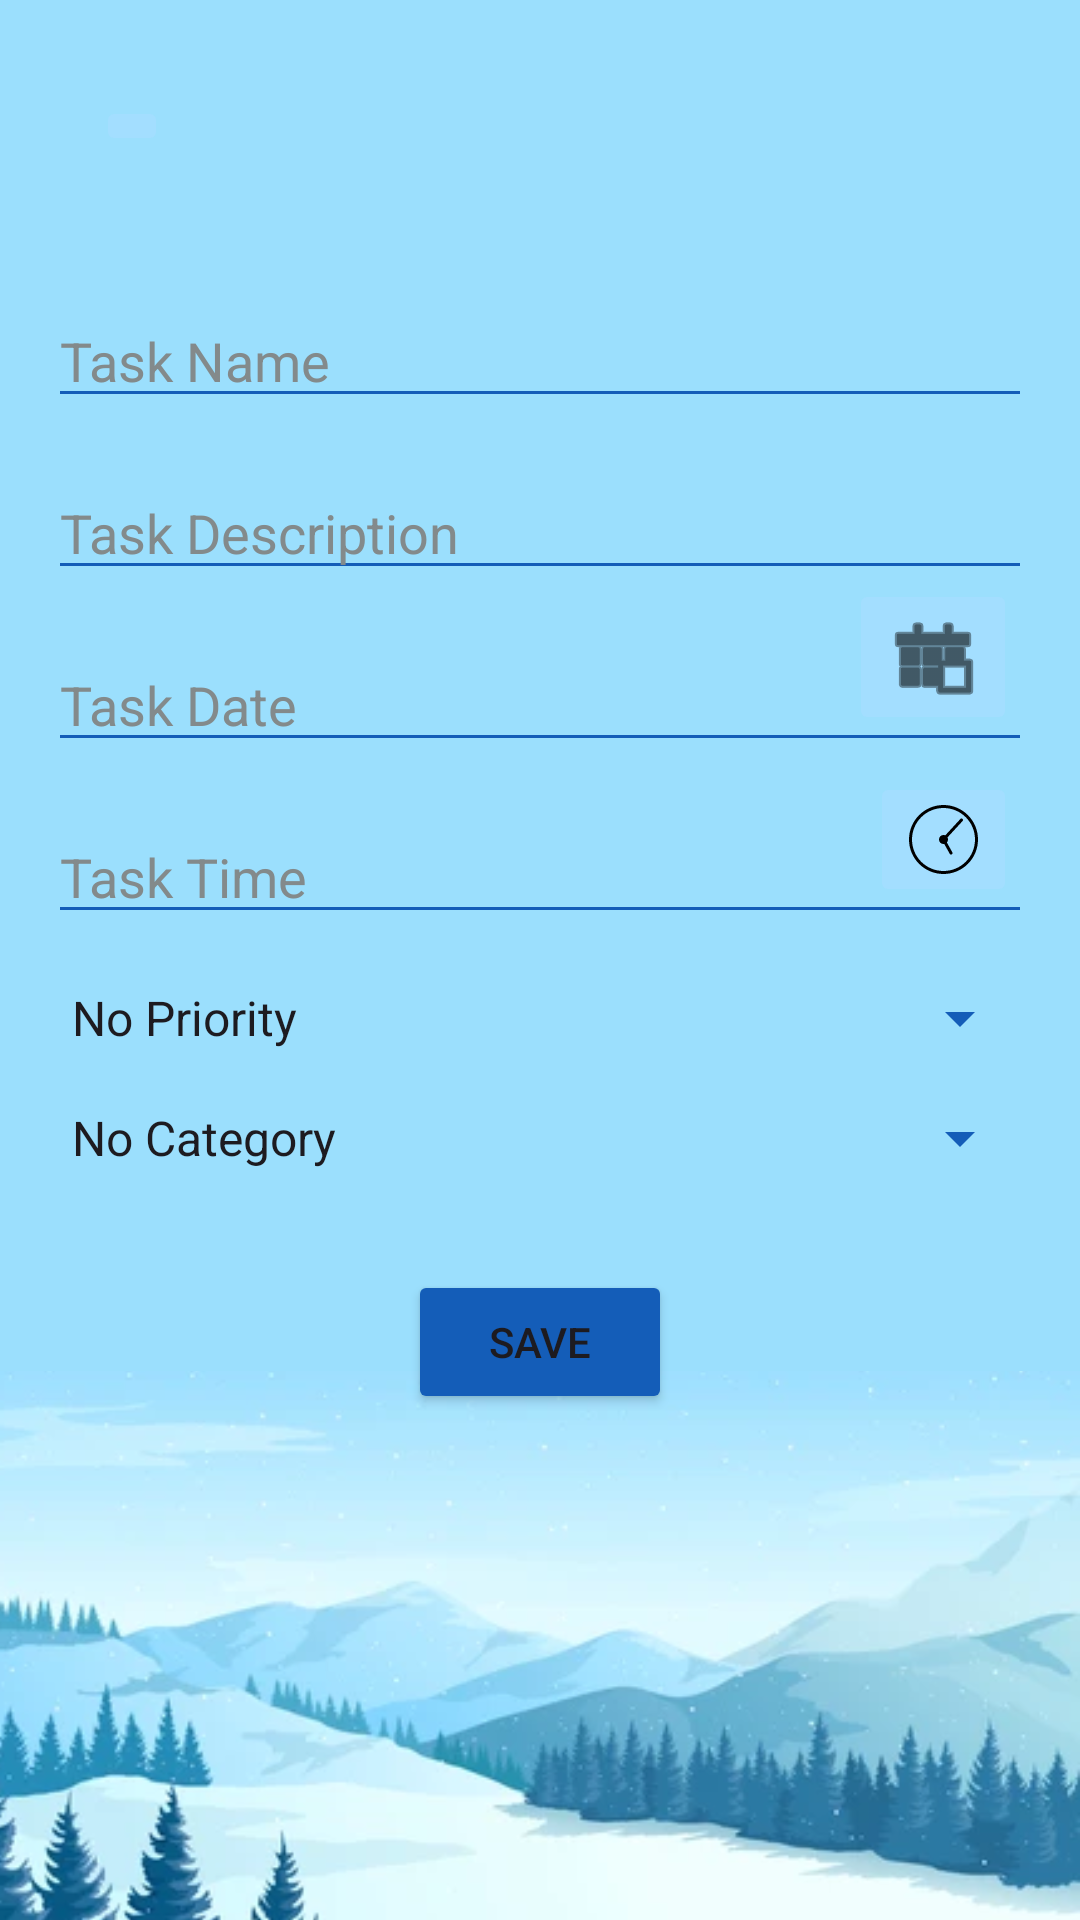

Icons on this 1080 × 1920 Android screen, each with the point to tap as [x,y]:
clock: [943,839]
today: [934,658]
